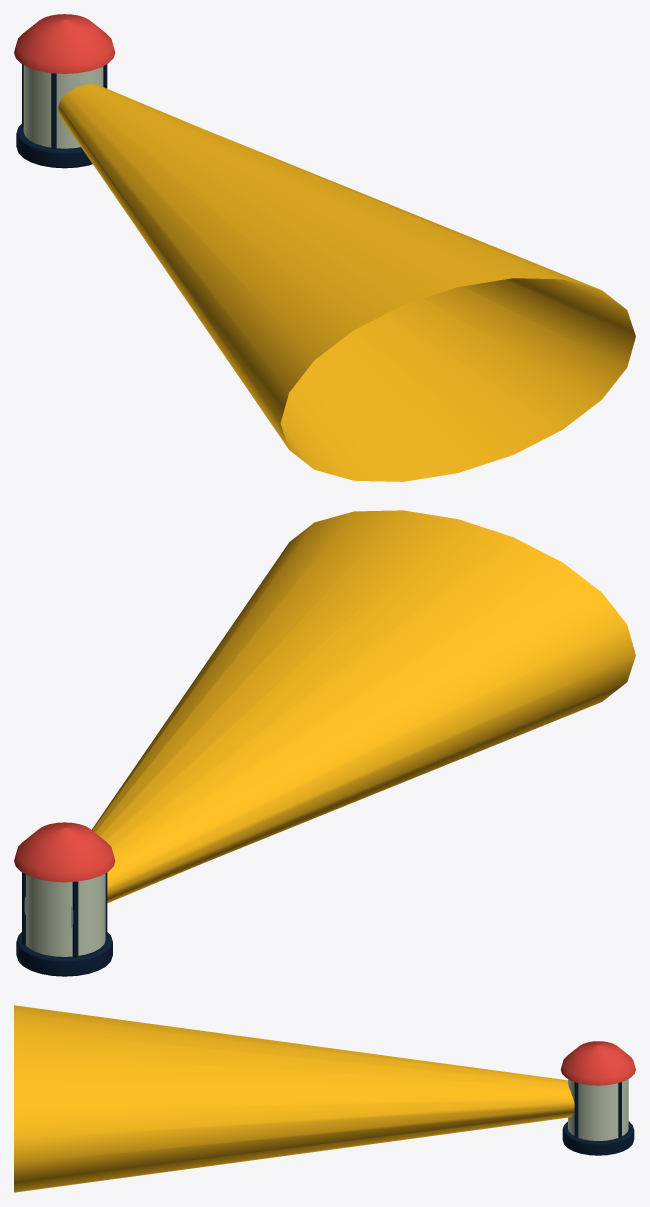
Rendered from farol7_beacon.glb.
3 renders of one model, top to bottom at view 1: azimuth 30°, elevation 25°; view 2: azimuth 150°, elevation 25°; view 3: azimuth 270°, elevation 25°, orthographic. The views are drawn at different scales.
Visible parts, largest first — view 1: BeaconSpin, BeaconBase; view 2: BeaconSpin, BeaconBase; view 3: BeaconSpin, BeaconBase.
Part boxes in pixels (x1,y1,x2,y2): BeaconSpin: (58, 84, 635, 481); BeaconBase: (14, 14, 115, 168); BeaconSpin: (24, 510, 635, 927); BeaconBase: (14, 822, 115, 976); BeaconSpin: (14, 1005, 574, 1192); BeaconBase: (560, 1041, 635, 1155).
Size of the model in its own units: 1.7 by 0.85 by 3.47.
